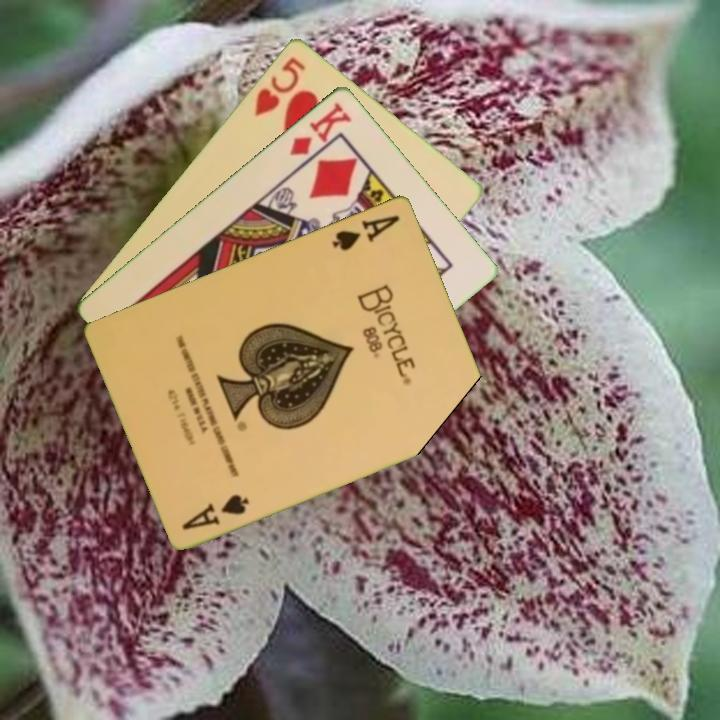5h: (251, 52, 309, 119)
As: (328, 211, 403, 253), (178, 490, 253, 532)
Kd: (286, 98, 355, 159)
